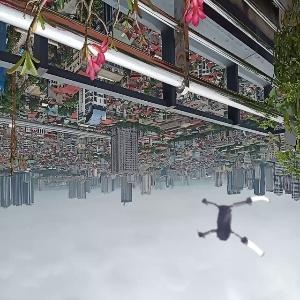drone: (187, 180, 280, 273)
